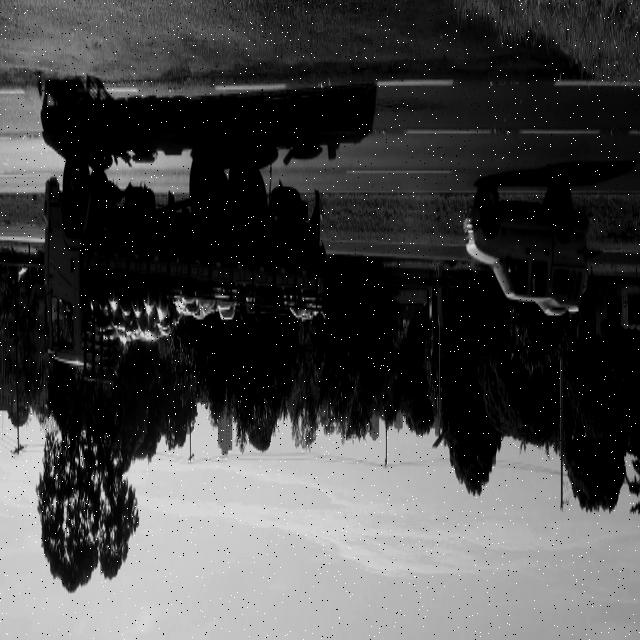-axle: (186, 143, 222, 231), (229, 147, 262, 225), (60, 150, 91, 226)
